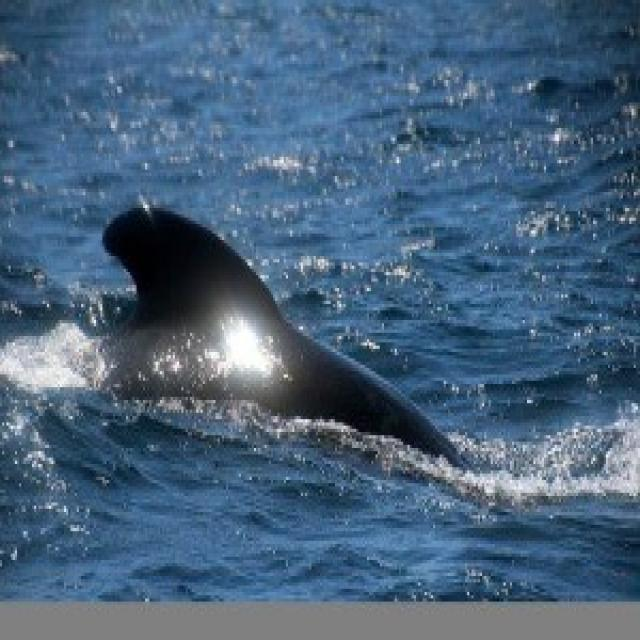Dolphin: (91, 205, 542, 537)
